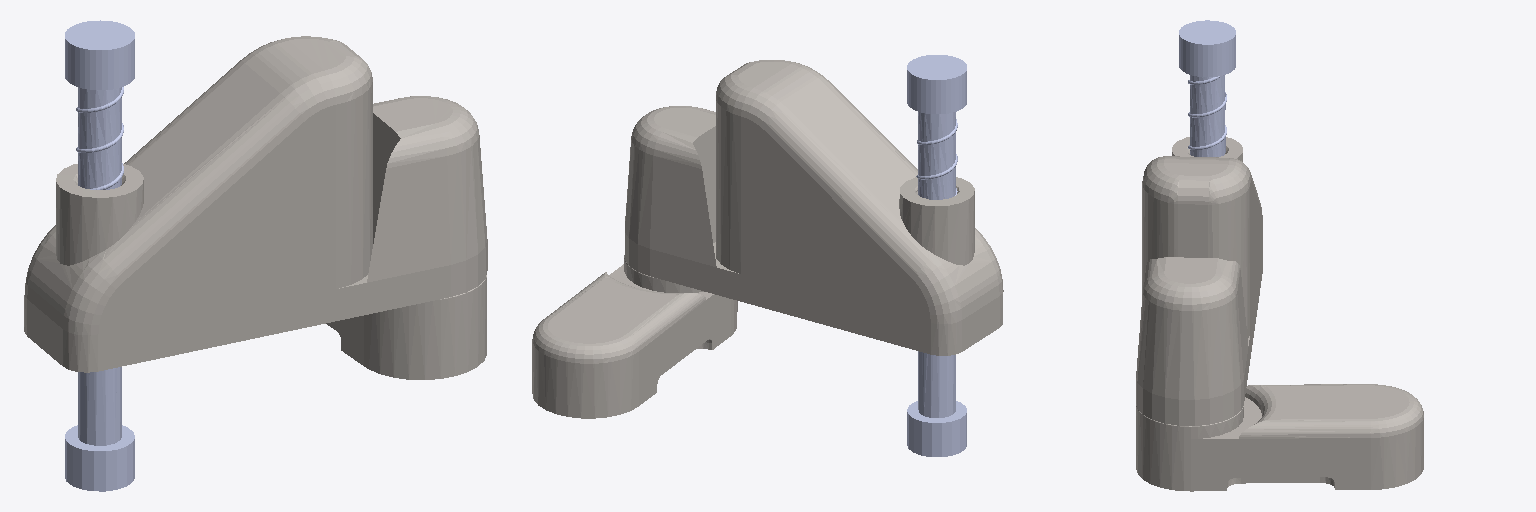
The robot description file, URDF, robot "Scara_arm":
<?xml version="1.0" encoding="utf-8"?>
<!-- This URDF was automatically created by SolidWorks to URDF Exporter! Originally created by [author] ([email redacted]) 
     Commit Version: 1.6.0-1-g15f4949  Build Version: 1.6.7594.29634
     For more information, please see http://wiki.ros.org/sw_urdf_exporter -->
<robot
  name="Scara_arm">
  <link
    name="base_link">
    <inertial>
      <origin
        xyz="0.155089529965973 0.0891497928154382 0.106548243989106"
        rpy="0 0 0" />
      <mass
        value="27.154380119055" />
      <inertia
        ixx="0.128305251803877"
        ixy="-0.000131818581333415"
        ixz="-1.11496294415566E-05"
        iyy="0.119231744921295"
        iyz="0.000277151030321705"
        izz="0.0962057704956619" />
    </inertial>
    <visual>
      <origin
        xyz="0 0 0"
        rpy="0 0 0" />
      <geometry>
        <mesh
          filename="package://Scara_arm/meshes/base_link.STL" />
      </geometry>
      <material
        name="">
        <color
          rgba="0.776470588235294 0.756862745098039 0.737254901960784 1" />
      </material>
    </visual>
    <collision>
      <origin
        xyz="0 0 0"
        rpy="0 0 0" />
      <geometry>
        <mesh
          filename="package://Scara_arm/meshes/base_link.STL" />
      </geometry>
    </collision>
  </link>
  <link
    name="link_1">
    <inertial>
      <origin
        xyz="3.61344626442772E-09 0.0617858079224725 0.154911314006641"
        rpy="0 0 0" />
      <mass
        value="40.189608825325" />
      <inertia
        ixx="0.508152286237802"
        ixy="-1.65231041869551E-09"
        ixz="8.13995298552458E-09"
        iyy="0.50974601318392"
        iyz="-0.0334168968729477"
        izz="0.129748200635417" />
    </inertial>
    <visual>
      <origin
        xyz="0 0 0"
        rpy="0 0 0" />
      <geometry>
        <mesh
          filename="package://Scara_arm/meshes/link_1.STL" />
      </geometry>
      <material
        name="">
        <color
          rgba="0.776470588235294 0.756862745098039 0.737254901960784 1" />
      </material>
    </visual>
    <collision>
      <origin
        xyz="0 0 0"
        rpy="0 0 0" />
      <geometry>
        <mesh
          filename="package://Scara_arm/meshes/link_1.STL" />
      </geometry>
    </collision>
  </link>
  <joint
    name="joint_1"
    type="continuous">
    <origin
      xyz="0.15509 -0.10565 0.14236"
      rpy="1.5708 0 0.017698" />
    <parent
      link="base_link" />
    <child
      link="link_1" />
    <axis
      xyz="0 1 0" />
  </joint>
  <link
    name="link_2">
    <inertial>
      <origin
        xyz="-1.5904162709024E-08 0.124126238323676 0.203728536970179"
        rpy="0 0 0" />
      <mass
        value="118.9449004533" />
      <inertia
        ixx="2.76175954594278"
        ixy="8.74027971672735E-06"
        ixz="-3.43471825994812E-07"
        iyy="2.3196658141887"
        iyz="0.172831526487803"
        izz="0.863252302400428" />
    </inertial>
    <visual>
      <origin
        xyz="0 0 0"
        rpy="0 0 0" />
      <geometry>
        <mesh
          filename="package://Scara_arm/meshes/link_2.STL" />
      </geometry>
      <material
        name="">
        <color
          rgba="0.776470588235294 0.756862745098039 0.737254901960784 1" />
      </material>
    </visual>
    <collision>
      <origin
        xyz="0 0 0"
        rpy="0 0 0" />
      <geometry>
        <mesh
          filename="package://Scara_arm/meshes/link_2.STL" />
      </geometry>
    </collision>
  </link>
  <joint
    name="joint_2"
    type="continuous">
    <origin
      xyz="0 0.094021 0.25"
      rpy="3.1416 -1.4931 3.1416" />
    <parent
      link="link_1" />
    <child
      link="link_2" />
    <axis
      xyz="0 1 0" />
  </joint>
  <link
    name="link_3">
    <inertial>
      <origin
        xyz="-8.14081082545215E-08 -0.0693656847544451 3.0799865102793E-07"
        rpy="0 0 0" />
      <mass
        value="9.61637412998313" />
      <inertia
        ixx="0.238809380855472"
        ixy="-3.17901146001321E-06"
        ixz="-3.22956203530067E-07"
        iyy="0.00412085680749192"
        iyz="-1.6592777272209E-05"
        izz="0.238808891784409" />
    </inertial>
    <visual>
      <origin
        xyz="0 0 0"
        rpy="0 0 0" />
      <geometry>
        <mesh
          filename="package://Scara_arm/meshes/link_3.STL" />
      </geometry>
      <material
        name="">
        <color
          rgba="0.792156862745098 0.819607843137255 0.933333333333333 1" />
      </material>
    </visual>
    <collision>
      <origin
        xyz="0 0 0"
        rpy="0 0 0" />
      <geometry>
        <mesh
          filename="package://Scara_arm/meshes/link_3.STL" />
      </geometry>
    </collision>
  </link>
  <joint
    name="joint_3"
    type="prismatic">
    <origin
      xyz="0 0 0.40562"
      rpy="0 -0.32398 3.1416" />
    <parent
      link="link_2" />
    <child
      link="link_3" />
    <axis
      xyz="0 1 0" />
    <limit
      lower="0"
      upper="0"
      effort="0"
      velocity="0" />
  </joint>
</robot>

--- Render facts (derived) ---
Views: 3 orthographic renders of the robot side by side, from view 1: azimuth 30°, elevation 25°; view 2: azimuth 150°, elevation 25°; view 3: azimuth 270°, elevation 25°.
Robot: Scara_arm — 4 links, 3 joints (2 continuous, 1 prismatic); root link base_link; default pose: all joints at 0.
Visible links, largest first — view 1: link_2, link_3, link_1; view 2: link_2, link_1, link_3; view 3: link_2, link_1, link_3.
Boxes of the visible links, x1,y1,x2,y2 form: link_2: (24,36,487,372); link_3: (65,20,134,491); link_1: (326,275,486,379); link_2: (625,60,1003,355); link_1: (532,255,737,418); link_3: (907,55,966,456); link_2: (1136,137,1262,425); link_1: (1136,384,1423,491); link_3: (1179,20,1235,156).
Bounding box of the posed robot: 0.5518 × 0.3998 × 0.55 m (x, y, z).
Meshes: 4 distinct files referenced, 3 mesh visuals loaded (3 binary STL); not drawn: 1 (reference not matched to a file when rendering).